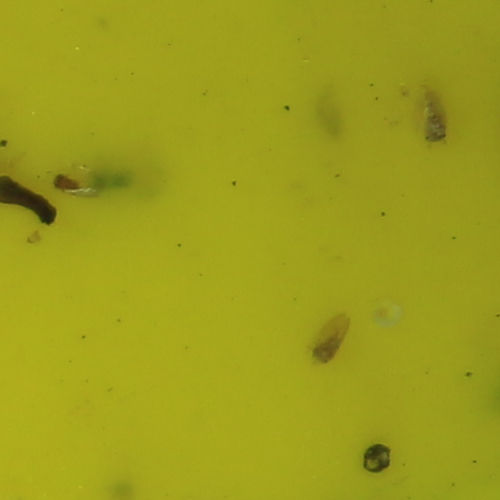Platyobria: (311, 316, 348, 361), (417, 94, 450, 143), (50, 174, 81, 194)
